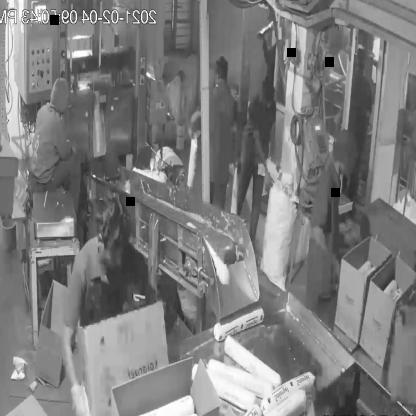glove: (71, 365, 102, 416)
no_glove: (309, 212, 351, 275), (250, 131, 270, 193), (268, 115, 280, 166)
